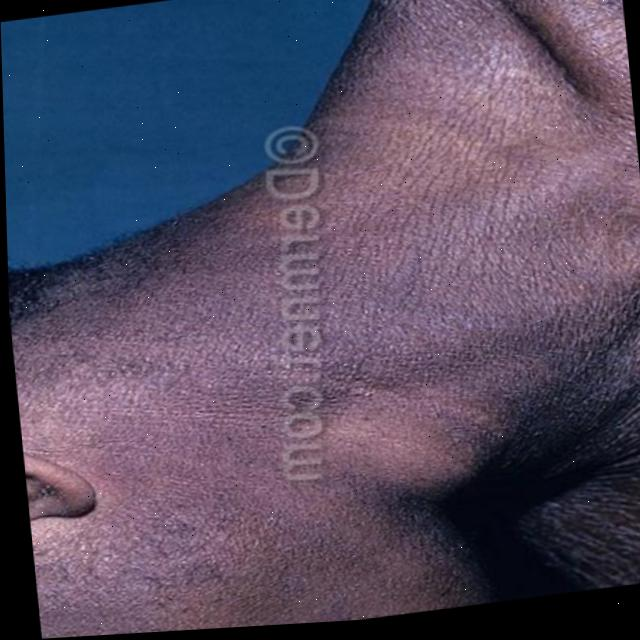Eczema: (20, 200, 640, 463)
